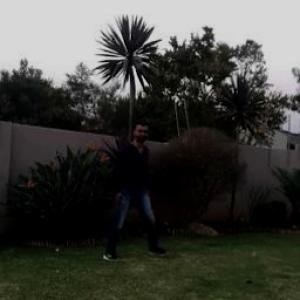follow: (111, 111, 151, 250)
